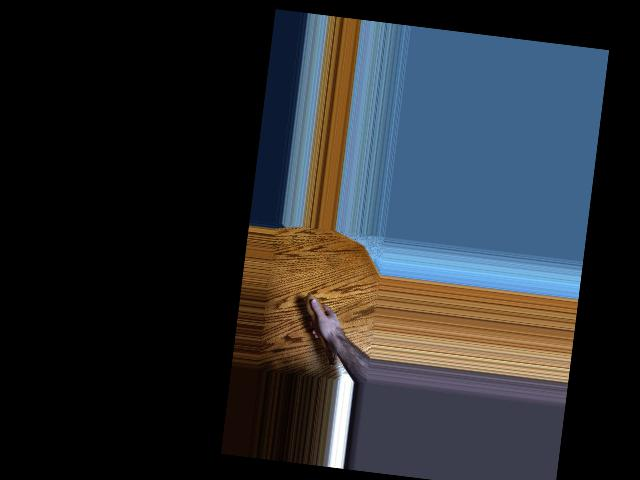sweet_potato: (299, 296, 345, 367)
